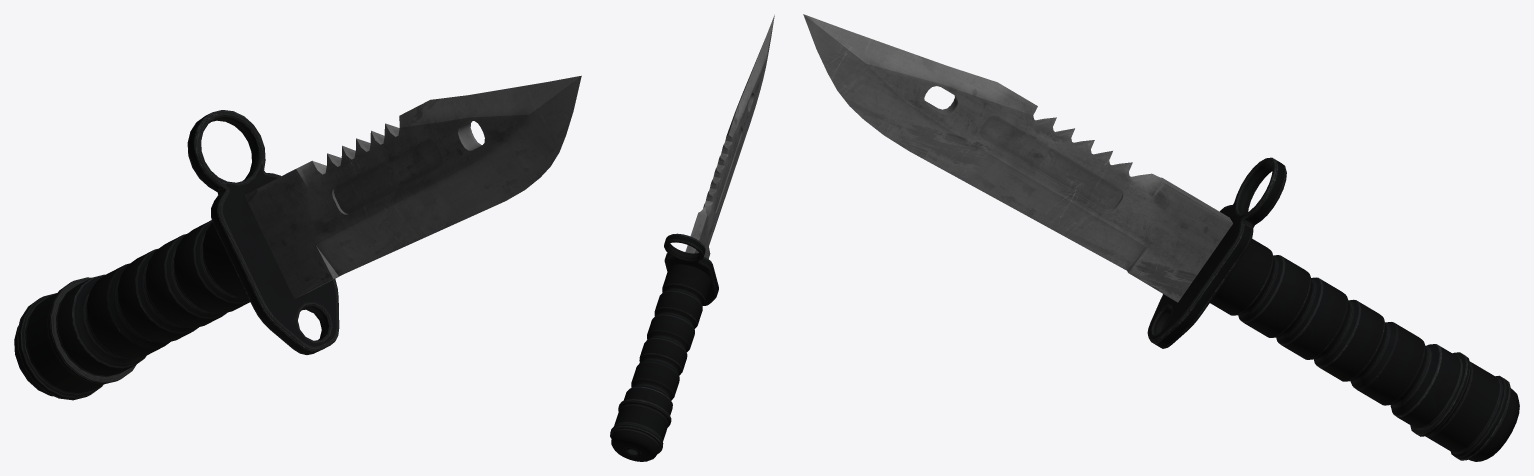
Rendered from reference_knife_world.glb.
3 views of the same model, side by side, from view 1: azimuth 30°, elevation 25°; view 2: azimuth 150°, elevation 25°; view 3: azimuth 270°, elevation 25° (orthographic). The views are drawn at different scales.
Parts seen in each view (by area): view 1: knife_knife_0; view 2: knife_knife_0; view 3: knife_knife_0.
Part boxes in pixels (x1,y1,x2,y2): knife_knife_0: (14,75,581,400); knife_knife_0: (610,15,774,461); knife_knife_0: (803,14,1519,461).
Bounding box in the file's own units: 0.0647 × 0.214 × 0.2818.
1 material, 1 textured.
